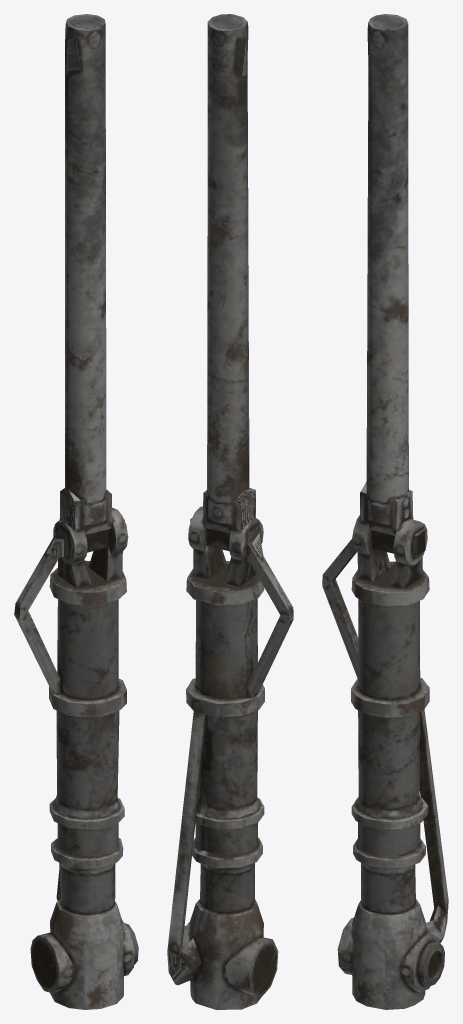
The model's file is plane_wreckage_metalpart_02.dae.
The picture shows the model from 3 angles, left to right: view 1: azimuth 30°, elevation 25°; view 2: azimuth 150°, elevation 25°; view 3: azimuth 330°, elevation 25°; orthographic projection.
Parts seen in each view (by area): view 1: plane_wreckage_metalpart_02; view 2: plane_wreckage_metalpart_02; view 3: plane_wreckage_metalpart_02.
Part boxes in pixels (box(x1,y1,x2,y2)): plane_wreckage_metalpart_02: box(14, 14, 138, 1009); plane_wreckage_metalpart_02: box(167, 14, 293, 1009); plane_wreckage_metalpart_02: box(322, 14, 448, 1009).
Size of the model in its own units: 31.64 by 263 by 29.5.
